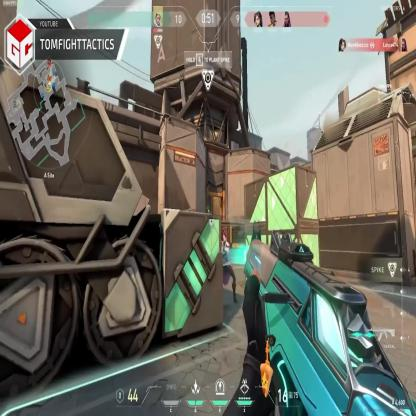enemy: (216, 231, 236, 305), (207, 209, 210, 220)
enemy_head: (222, 230, 227, 242), (207, 209, 209, 211)
